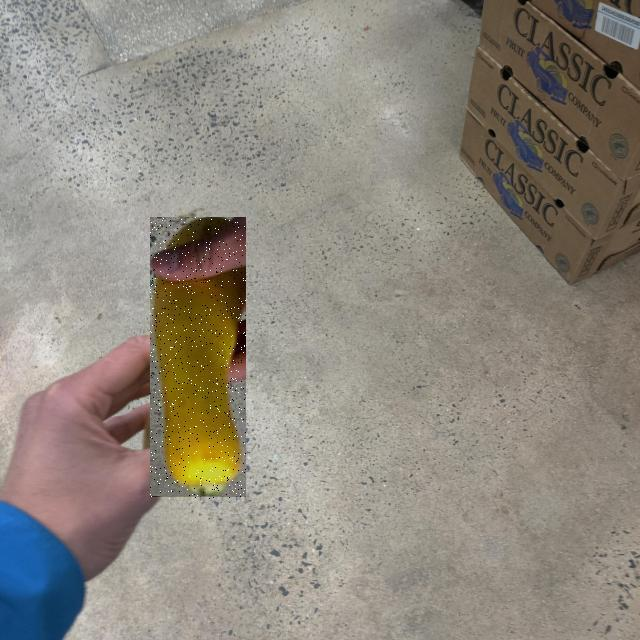Squash: (150, 218, 246, 500)
